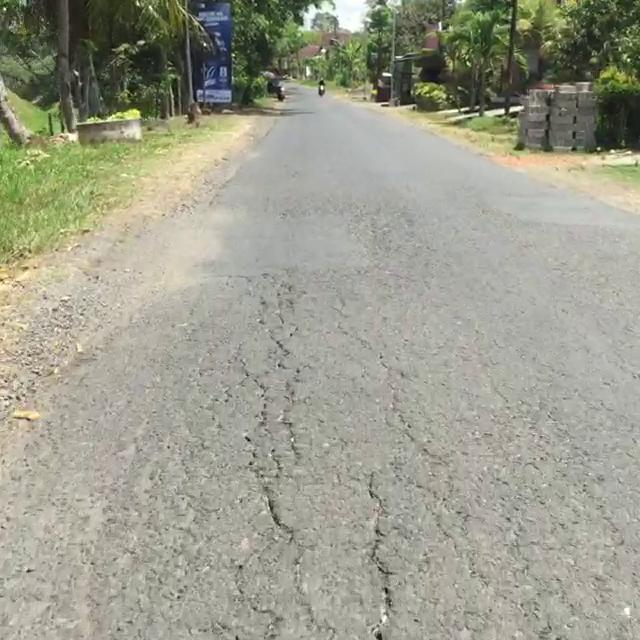retak_kulit_buaya: (214, 263, 321, 586)
retak_memanjang: (344, 452, 409, 640)
